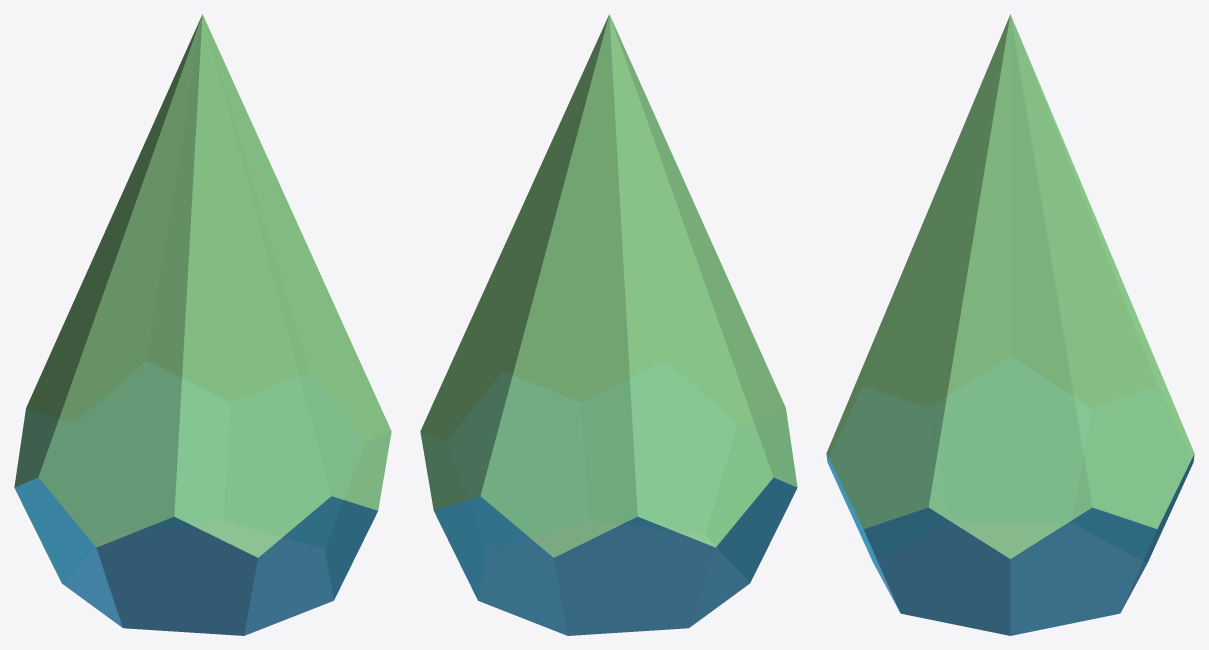
File: pipa7p.obj
The picture shows the model from 3 angles, left to right: view 1: azimuth 30°, elevation 25°; view 2: azimuth 150°, elevation 25°; view 3: azimuth 270°, elevation 25°; orthographic projection.
Bounding box in the file's own units: 2.68 × 4.42 × 2.62.
